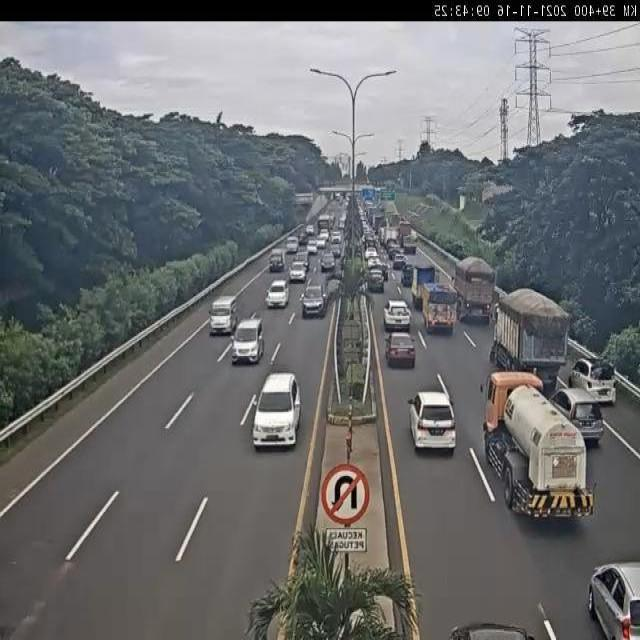Car: (584, 557, 640, 640), (251, 371, 302, 450), (550, 384, 604, 448), (407, 391, 458, 455), (568, 353, 618, 405), (384, 331, 416, 368), (382, 299, 412, 333), (301, 284, 328, 318), (264, 280, 290, 308), (367, 267, 385, 293), (399, 264, 415, 288), (319, 250, 336, 272), (288, 260, 306, 280), (294, 249, 309, 270), (374, 261, 391, 279), (392, 252, 407, 270), (364, 245, 378, 260), (315, 233, 327, 250), (366, 254, 380, 268), (388, 244, 401, 259), (330, 230, 342, 246), (331, 242, 342, 258), (307, 238, 318, 252), (298, 231, 308, 245), (320, 228, 330, 241), (305, 224, 315, 237), (339, 215, 347, 230)
Truck: (478, 368, 598, 531), (490, 285, 572, 395), (453, 255, 498, 320), (417, 281, 457, 336), (408, 262, 436, 304), (268, 246, 285, 273), (382, 225, 399, 246), (402, 234, 417, 254), (399, 219, 413, 238), (389, 212, 403, 225)
Van: (230, 316, 264, 364), (209, 292, 238, 336), (286, 237, 299, 254)
